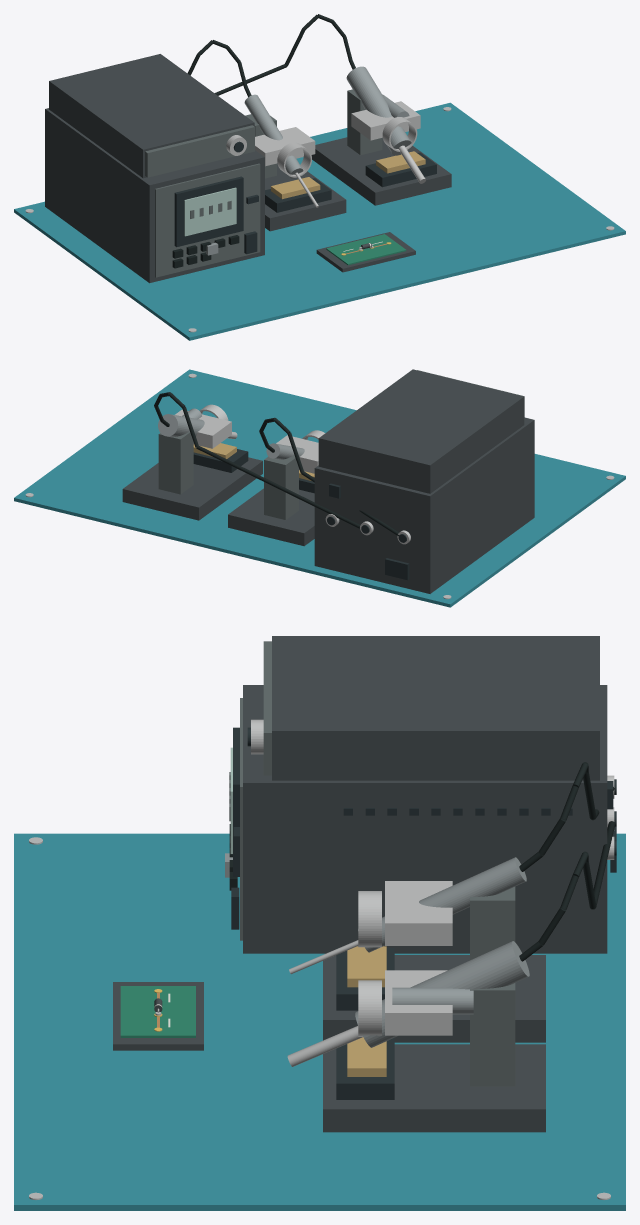
The model's file is dde-bench.glb.
The picture shows the model from 3 angles, top to bottom: view 1: azimuth 30°, elevation 25°; view 2: azimuth 150°, elevation 25°; view 3: azimuth 270°, elevation 25°; orthographic projection. The views are drawn at different scales.
Visible parts, largest first — view 1: ESD_bench_mat, DDE_D_envelope, MSE_module, Front_fascia, DRS_base, MSE_face, Screen_recess, ADS_base, Console_LCD, DR560_handle, Inert_PCB_75x48, ADS_rest (+10 smaller); view 2: ESD_bench_mat, DDE_D_envelope, MSE_module, DRS_base, ADS_base, DRS_post, ADS_post, DRS_rest, DR560_cable_6, DR560_handle, ADS_rest, DRS_sponge_cavity (+3 smaller); view 3: ESD_bench_mat, DDE_D_envelope, MSE_module, DRS_base, ADS_base, DRS_post, ADS_rest, Inert_PCB_75x48, DR560_handle, DRS_rest, ADS_post, T245_handle (+11 smaller).
Part boxes in pixels (box(x1,y1,x2,y2)): ESD_bench_mat: box(14, 102, 625, 340); DDE_D_envelope: box(45, 108, 264, 283); MSE_module: box(49, 54, 254, 178); Front_fascia: box(155, 163, 260, 277); DRS_base: box(311, 137, 451, 205); MSE_face: box(145, 125, 254, 177); Screen_recess: box(174, 176, 243, 247); ADS_base: box(265, 163, 346, 231); Console_LCD: box(184, 187, 236, 236); DR560_handle: box(346, 66, 411, 155); Inert_PCB_75x48: box(326, 234, 406, 265); ADS_rest: box(255, 127, 315, 166); ESD_bench_mat: box(14, 369, 625, 607); DDE_D_envelope: box(314, 417, 534, 593); MSE_module: box(318, 369, 524, 493); DRS_base: box(122, 457, 262, 520); ADS_base: box(228, 488, 314, 546); DRS_post: box(158, 431, 193, 494); ADS_post: box(264, 455, 298, 519); DRS_rest: box(175, 409, 231, 448); DR560_cable_6: box(196, 445, 360, 528); DR560_handle: box(158, 414, 204, 437); ADS_rest: box(276, 435, 318, 473); DRS_sponge_cavity: box(193, 449, 248, 472); ESD_bench_mat: box(14, 833, 625, 1210); DDE_D_envelope: box(243, 685, 607, 953); MSE_module: box(272, 636, 599, 780); DRS_base: box(323, 1044, 545, 1132); ADS_base: box(323, 955, 545, 1042); DRS_post: box(470, 983, 515, 1086); ADS_rest: box(385, 881, 452, 945); Inert_PCB_75x48: box(120, 986, 195, 1037); DR560_handle: box(355, 941, 529, 1047); DRS_rest: box(385, 970, 452, 1035); ADS_post: box(470, 887, 515, 960); T245_handle: box(358, 857, 526, 952).
Size of the model in its own units: 0.56 by 0.1659 by 0.39.
